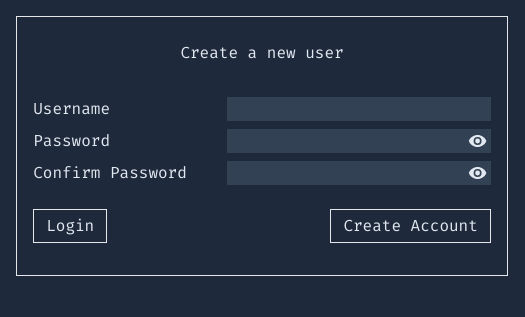
it: CreateUser › render submission errors when... › fetch returns an error
The width and height of the screenshot is (525, 317).
// Fill in the form
In the field named "username-input": point(359, 109) [227,97,491,121], type "james"
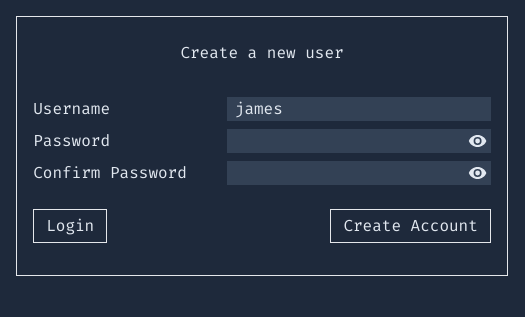
In the password field named "password-input": point(359, 141) [227,129,491,153], type "123456"
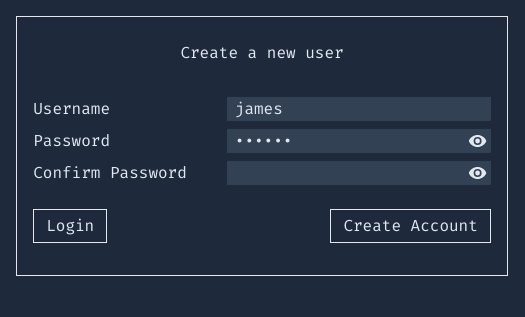
In the password field named "confirmPassword-input": point(359, 173) [227,161,491,185], type "123456"
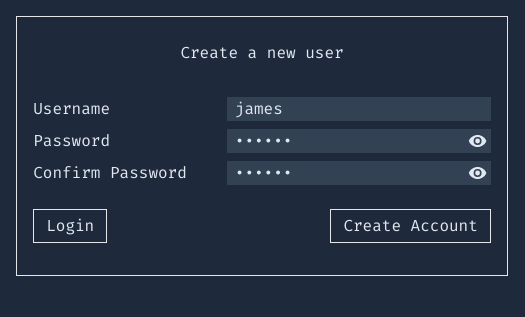
// Submit the form
Click the button "Create Account": point(411, 226) [330,209,491,243]
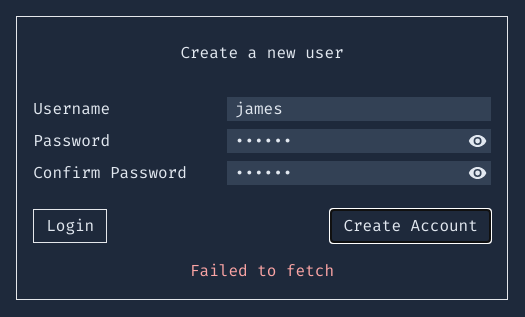
Expected: the text "Failed to fetch" is shown, [190,260,334,281]
